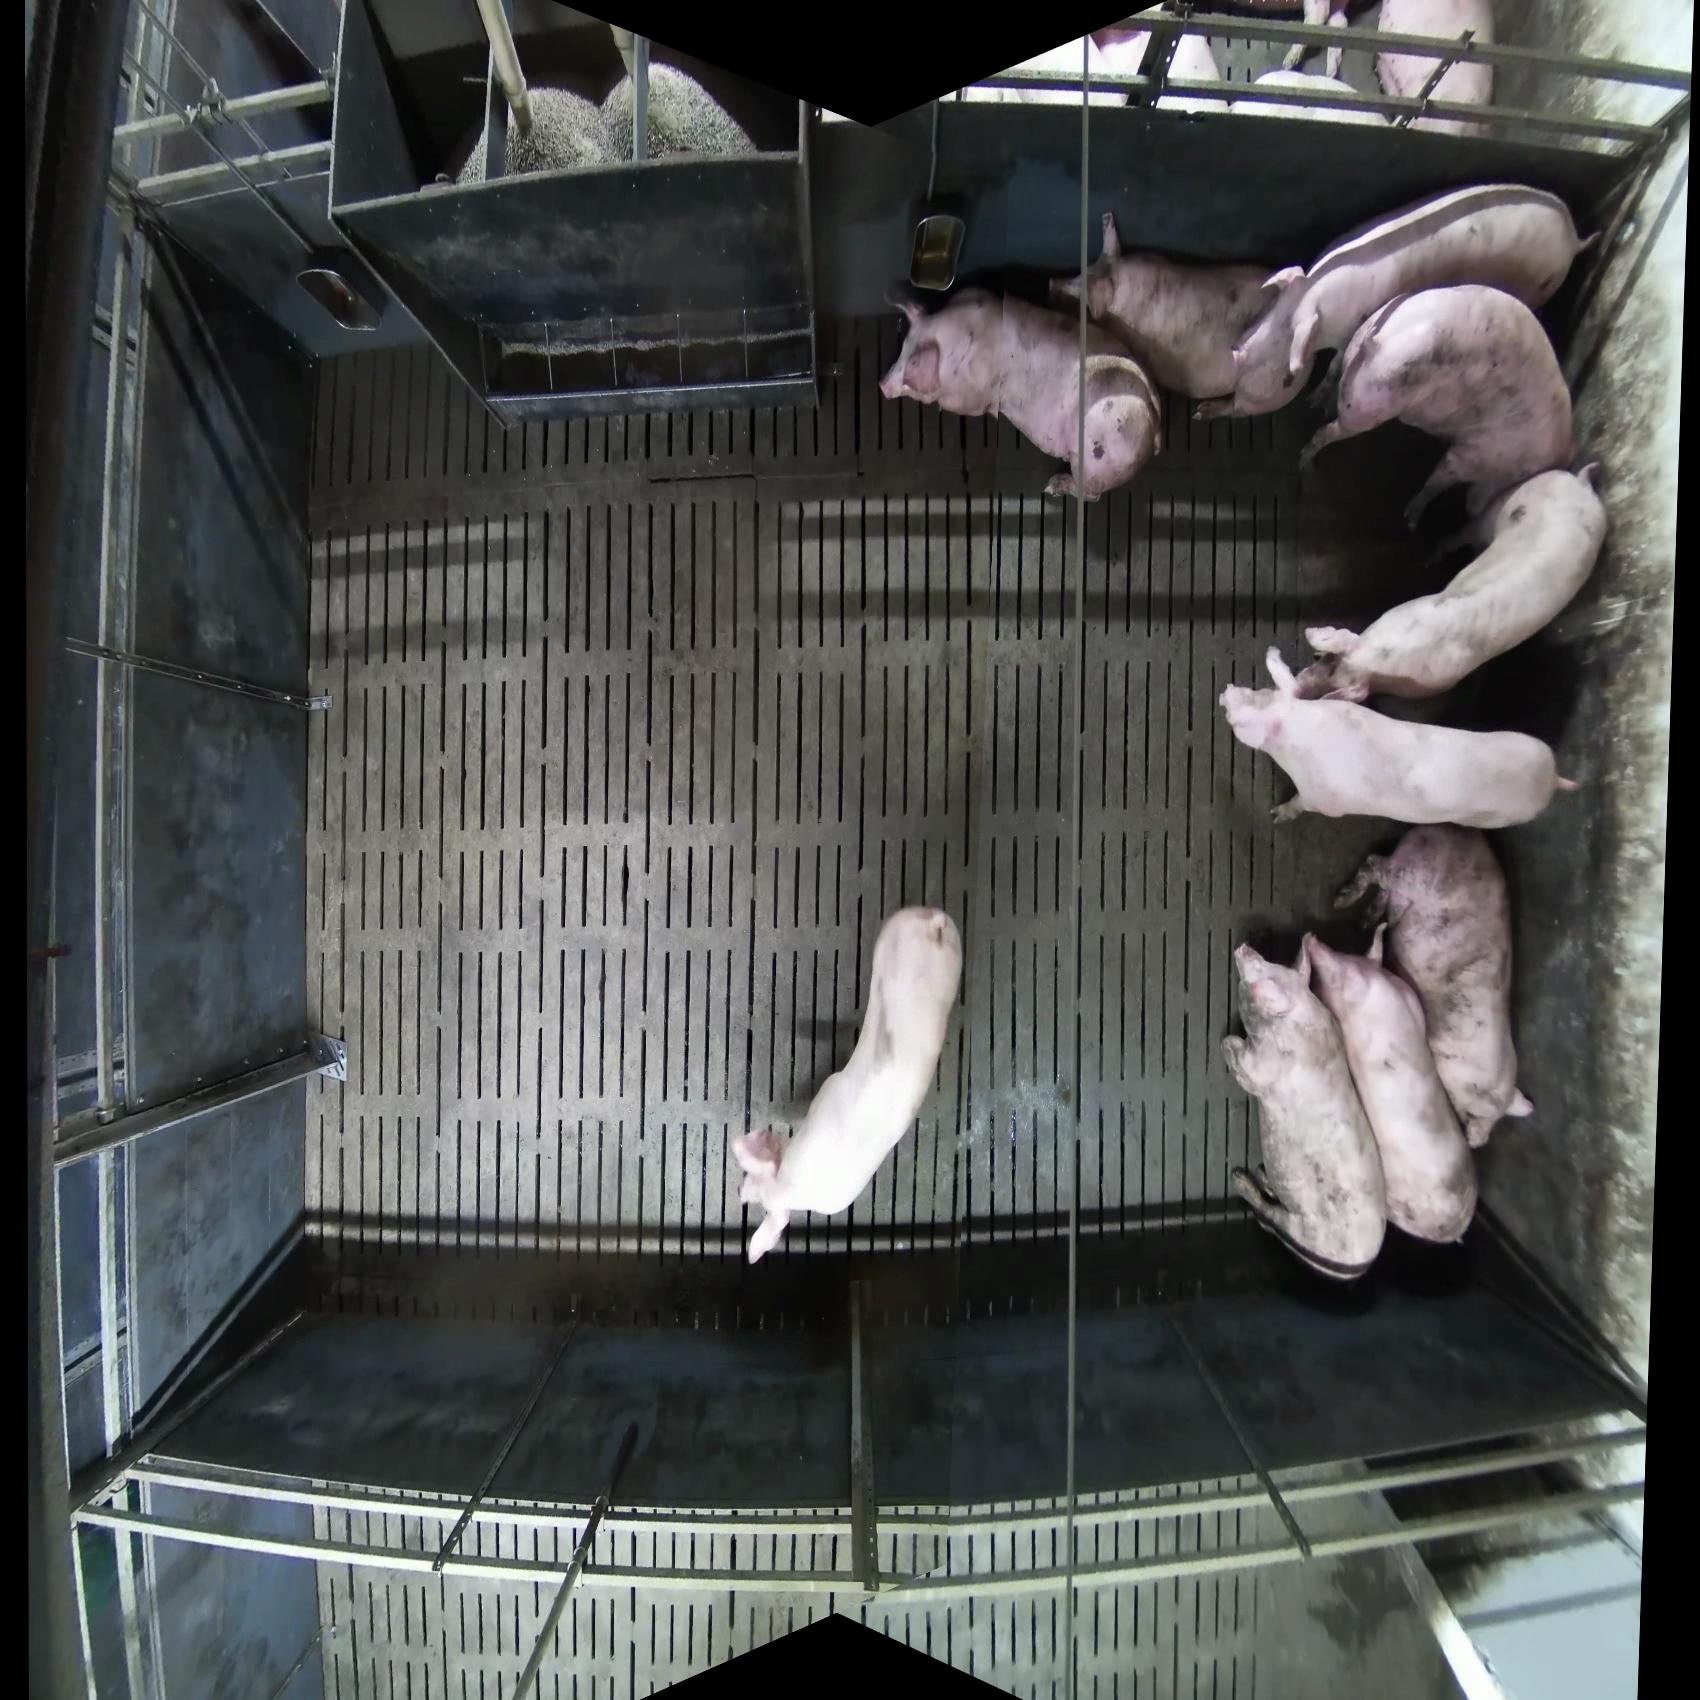pig: (1202, 181, 1586, 422), (732, 904, 964, 1266), (1301, 459, 1611, 705), (1298, 283, 1579, 532), (1217, 646, 1582, 831), (1333, 824, 1537, 1150), (878, 280, 1164, 504), (1298, 929, 1480, 1245), (1221, 940, 1389, 1281), (1048, 210, 1305, 419), (1249, 2, 1499, 139), (1375, 2, 1498, 139), (595, 62, 760, 163), (1090, 20, 1228, 115), (501, 87, 613, 176), (1230, 67, 1379, 125)
